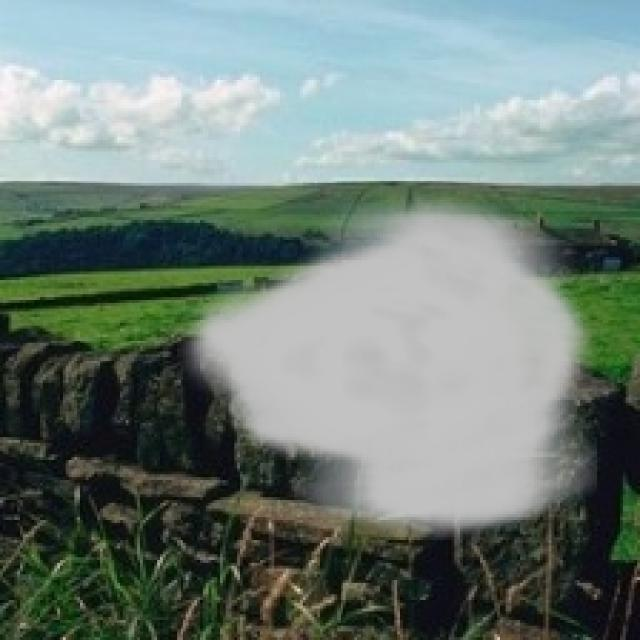smoke: (177, 189, 597, 540)
